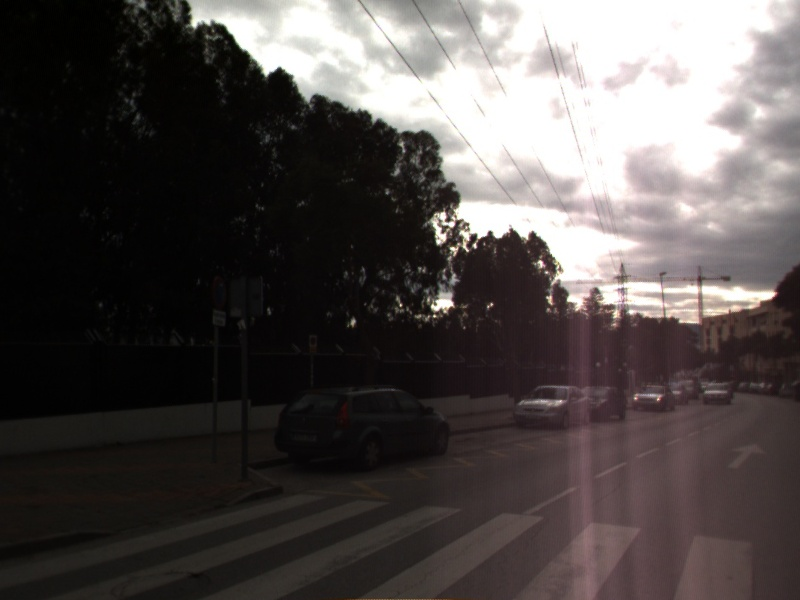STRAIGHT: (724, 441, 769, 471)
